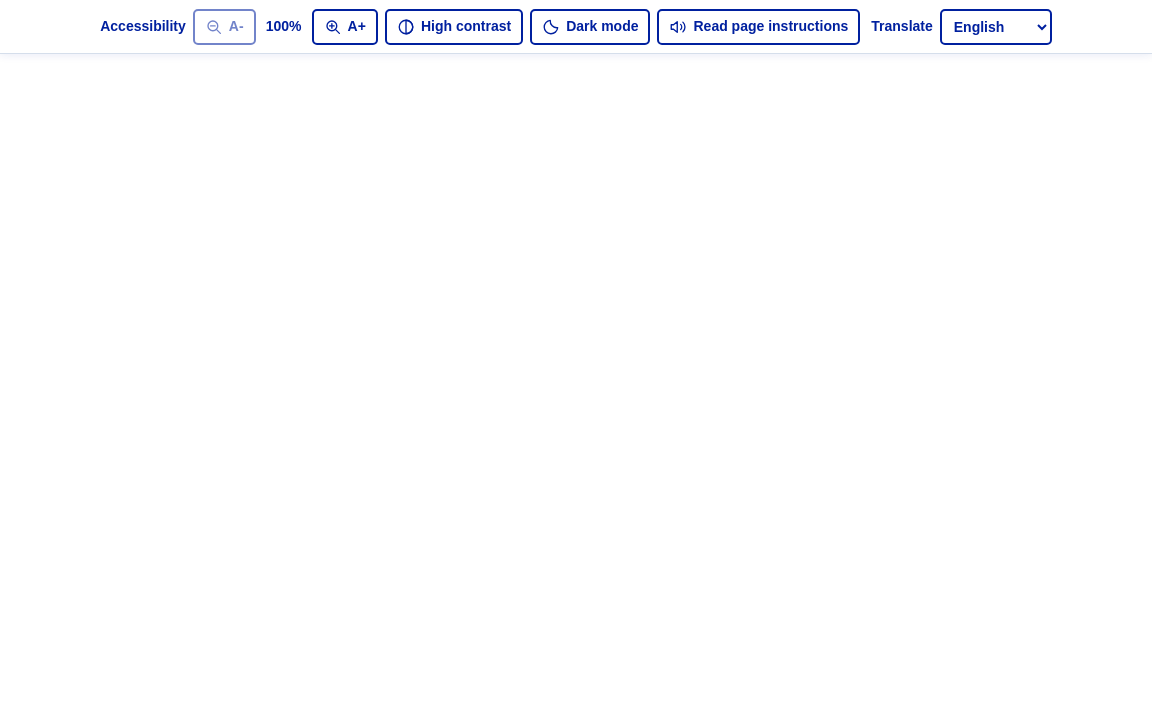
Scenario: AccessibilityToolbar › moves the dark mode toggle into the toolbar and persists the theme
Click the button with aria-label "Turn dark mode on" at [590, 26], box x1=530 y1=8 x2=650 y2=44
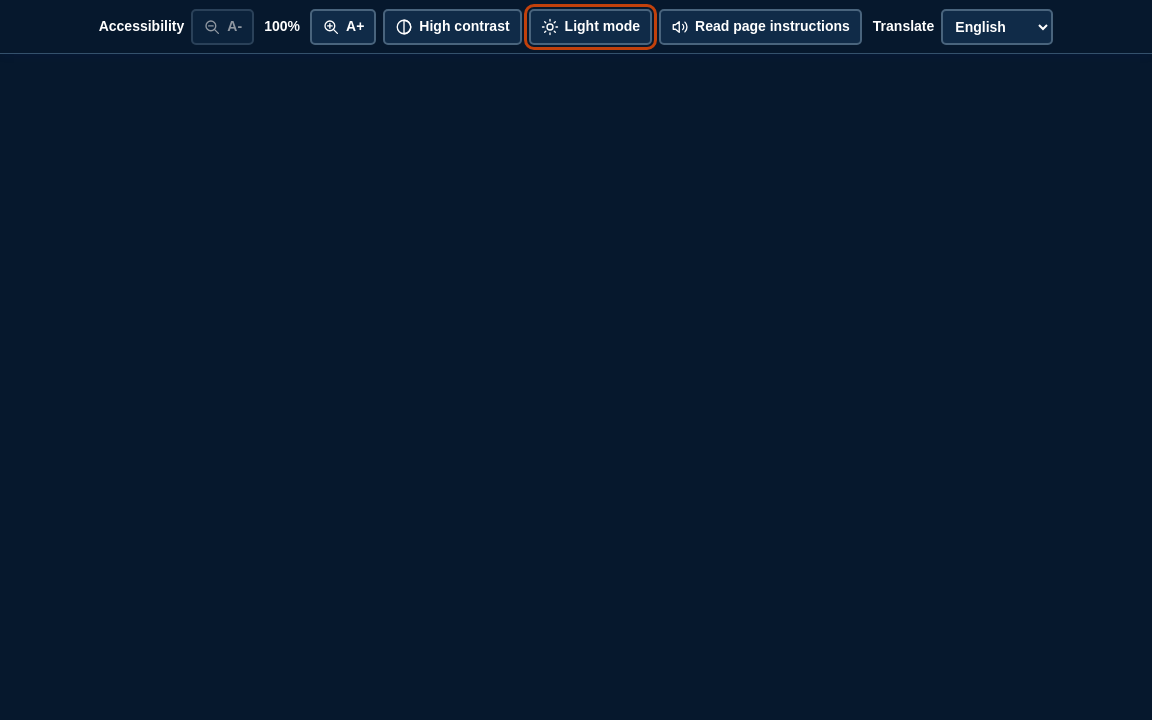
Expected: the button with aria-label "Turn light mode on" is shown, x1=529 y1=8 x2=652 y2=44
